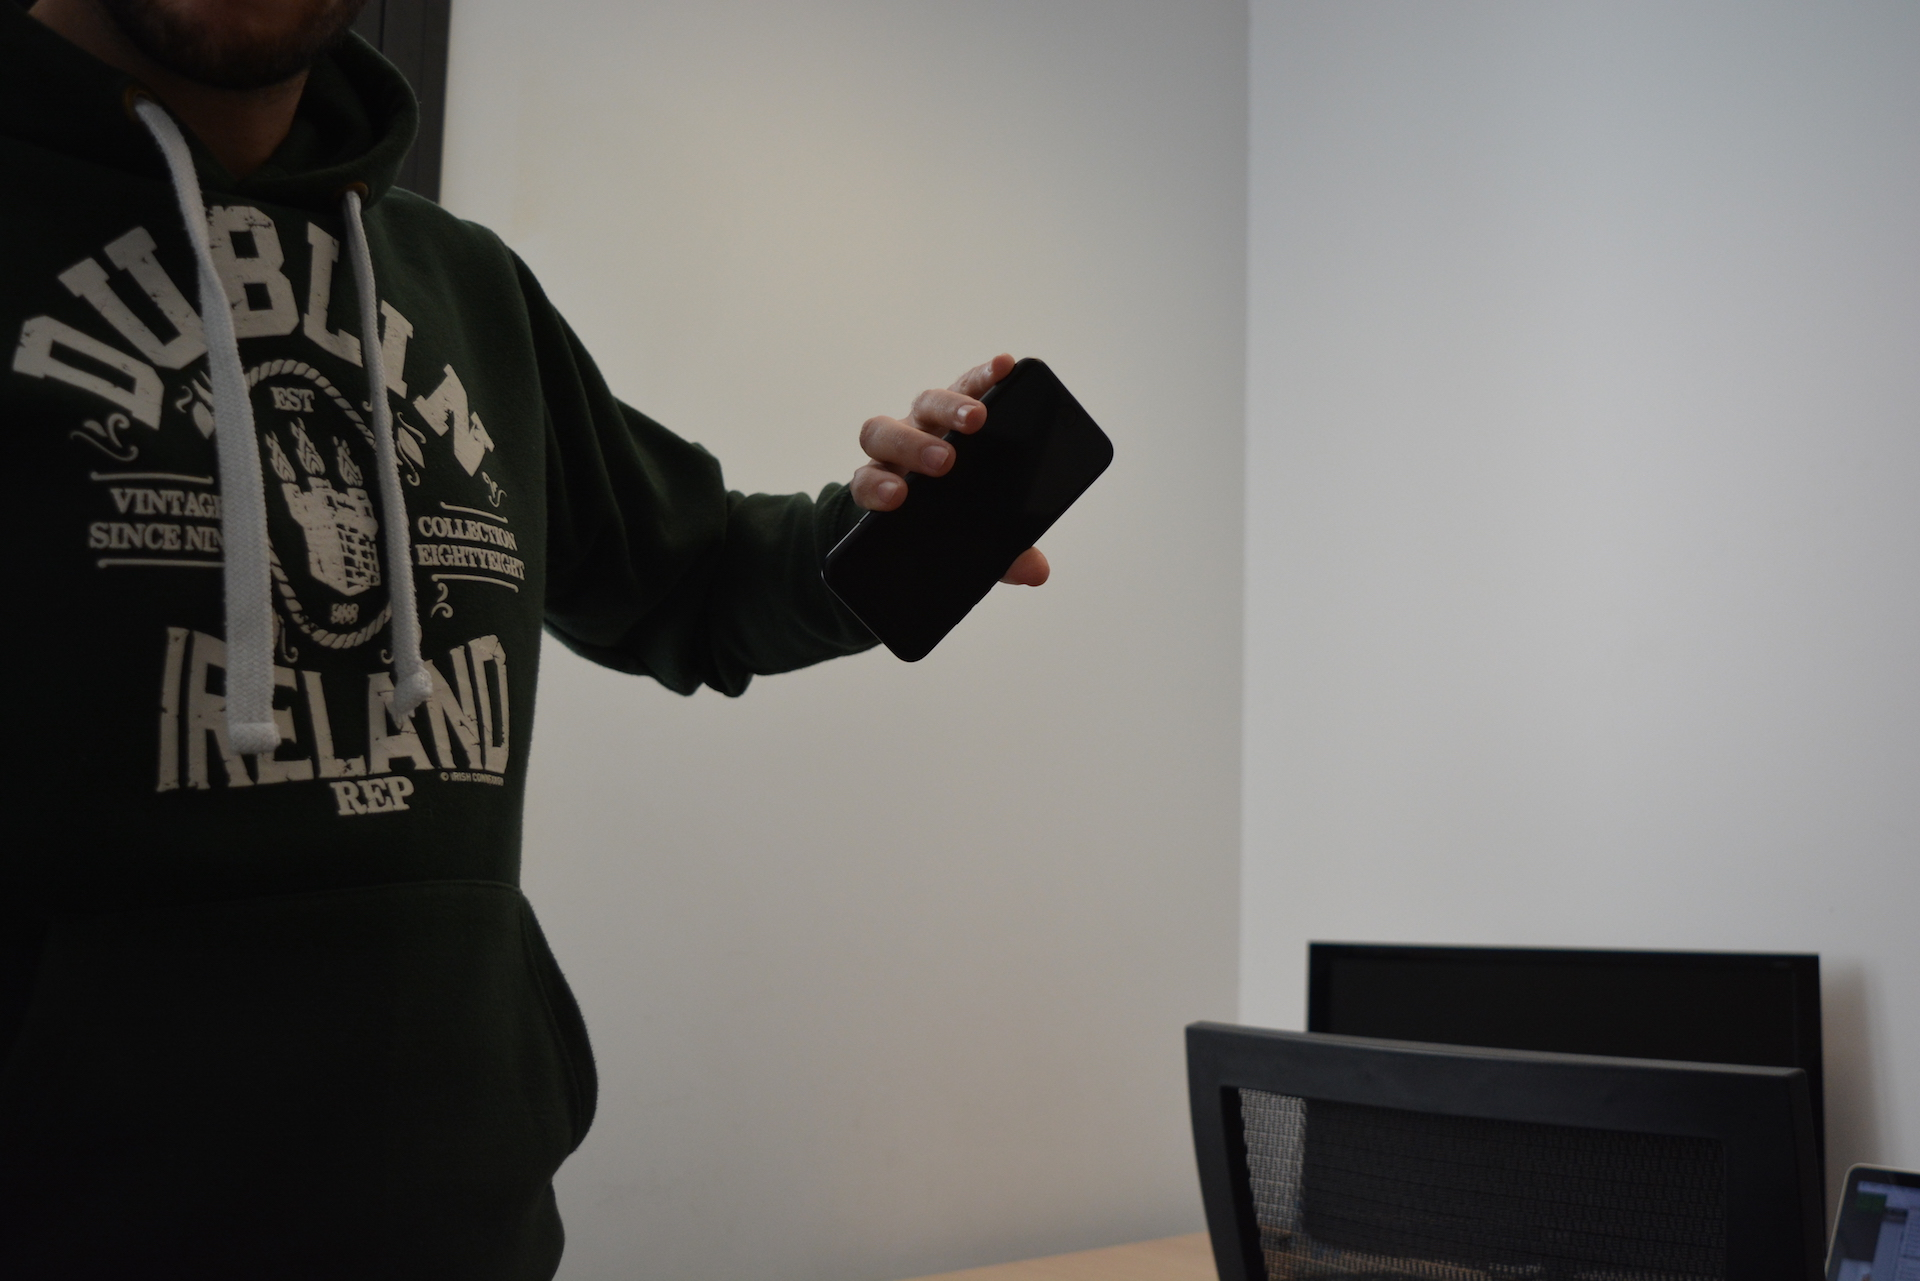smartphone: (821, 353, 1117, 665)
